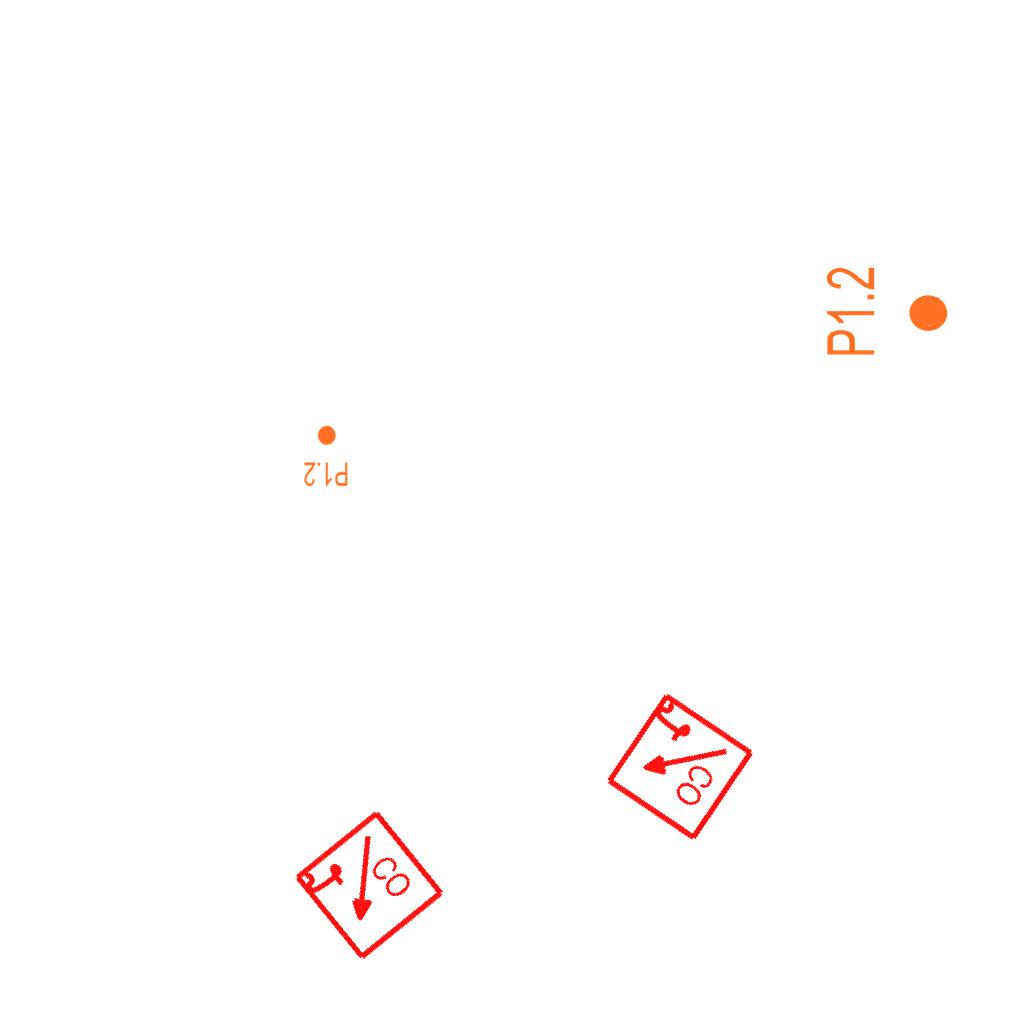Downlight_LED_Einbauleuchten_Flur: (823, 265, 951, 358), (303, 424, 349, 488)
ROA_Rauchmelder_optisch_mit_Signalgeber_(Sockelsirene): (289, 807, 448, 966), (600, 688, 757, 845)
